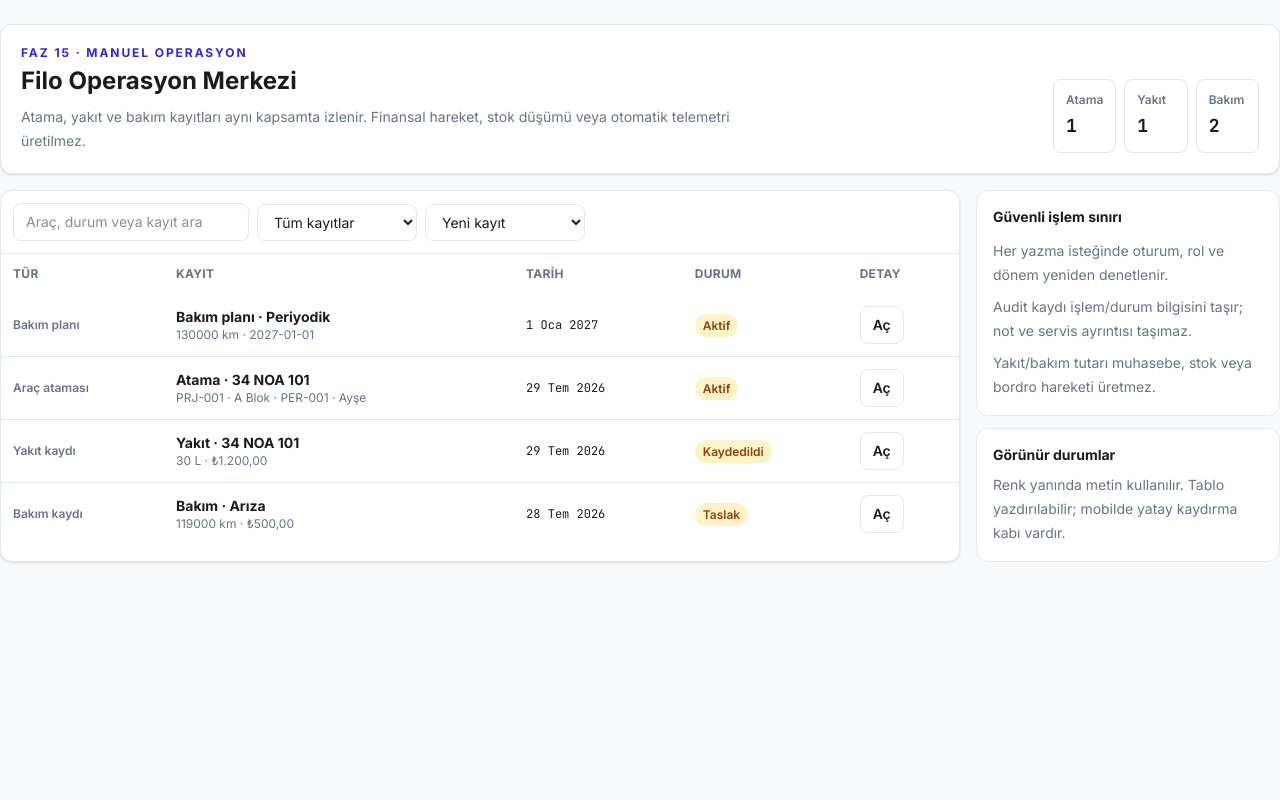
Test case: VehicleFleetOperationsSurface › filters the fleet operation table by type and text
The image size is (1280, 800).
Select "Yakıt" in the dropdown named "Filo kayıt türü filtresi" at (337, 222), box [257, 204, 417, 240]
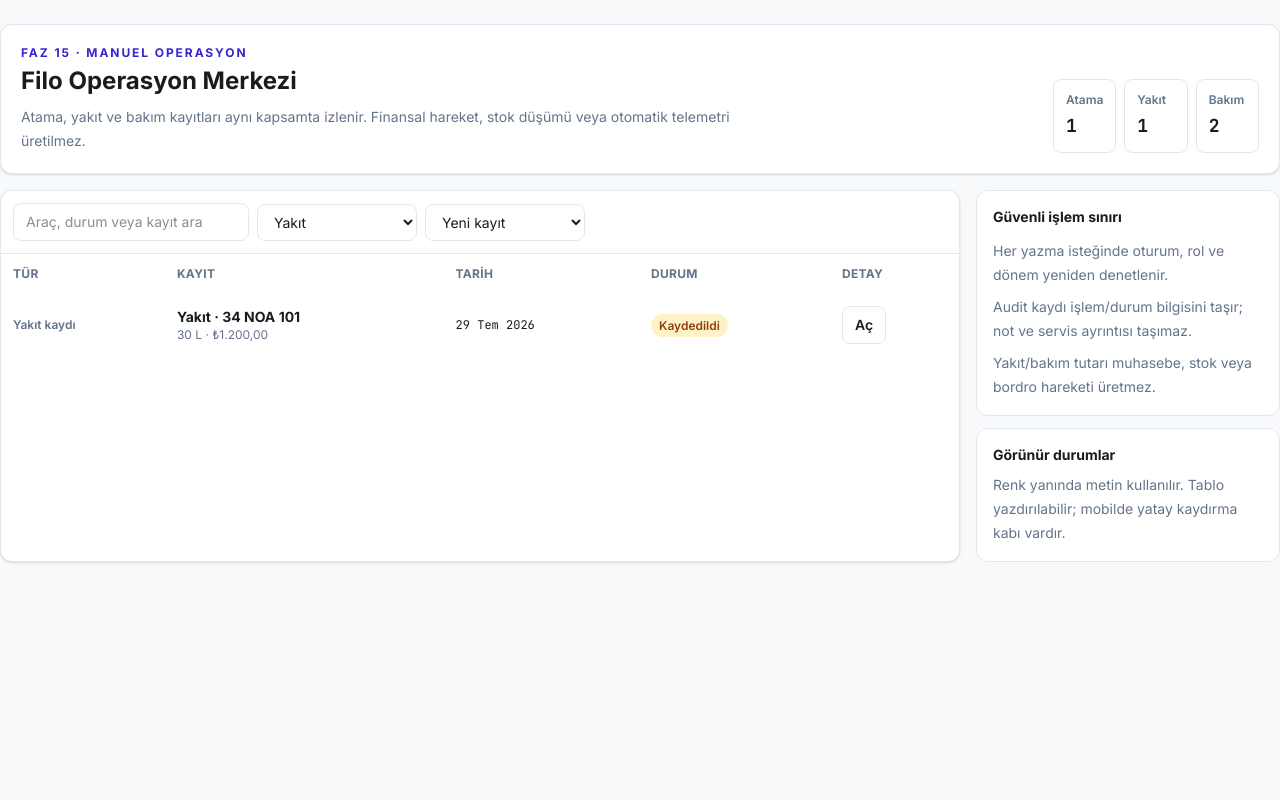
Expected: the text "Yakıt · 34 NOA 101" is shown, [177, 308, 300, 325]
Now the text "Atama · 34 NOA 101" is gone
Type "bulunmaz" into the field named "Filo operasyonlarında ara".
click(131, 222); type("bulunmaz")  # box [13, 203, 249, 241]
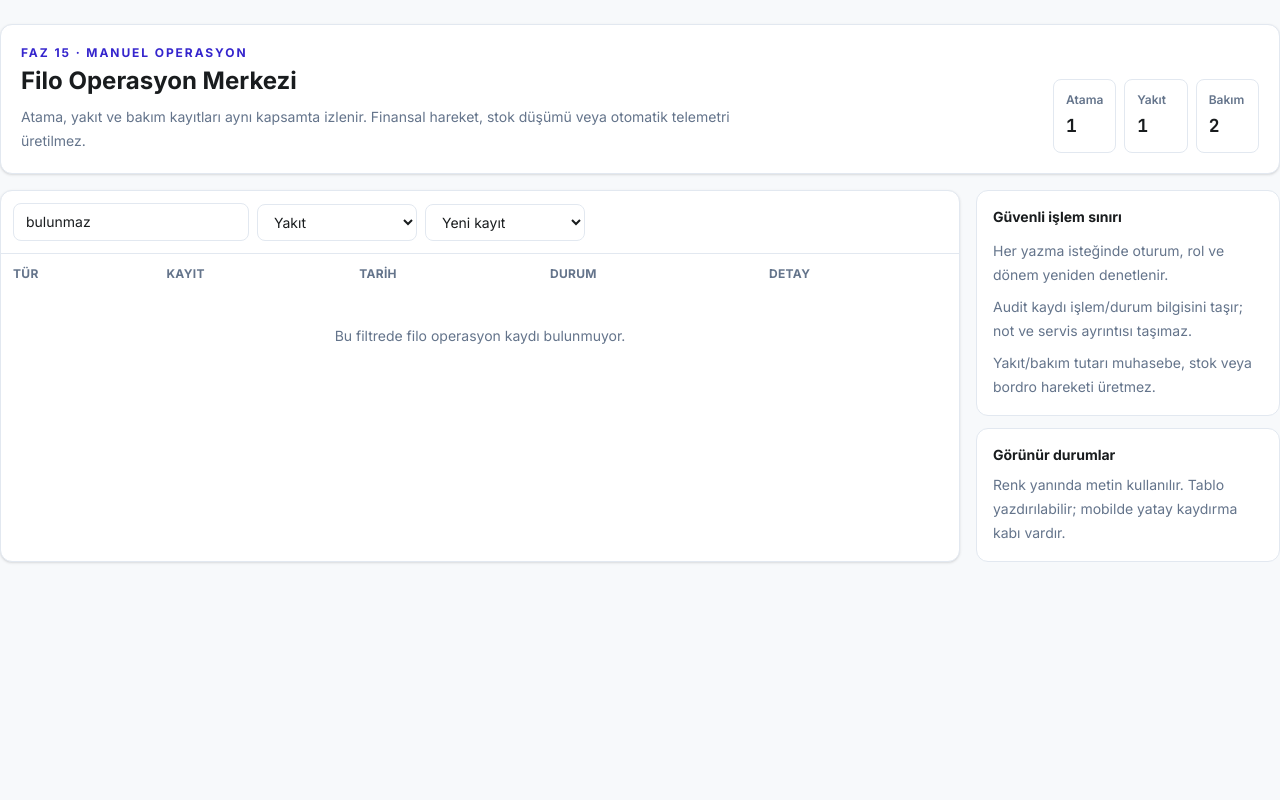
Now the text "Bu filtrede filo operasyon kaydı bulunmuyor." is shown, box [1, 294, 959, 378]
